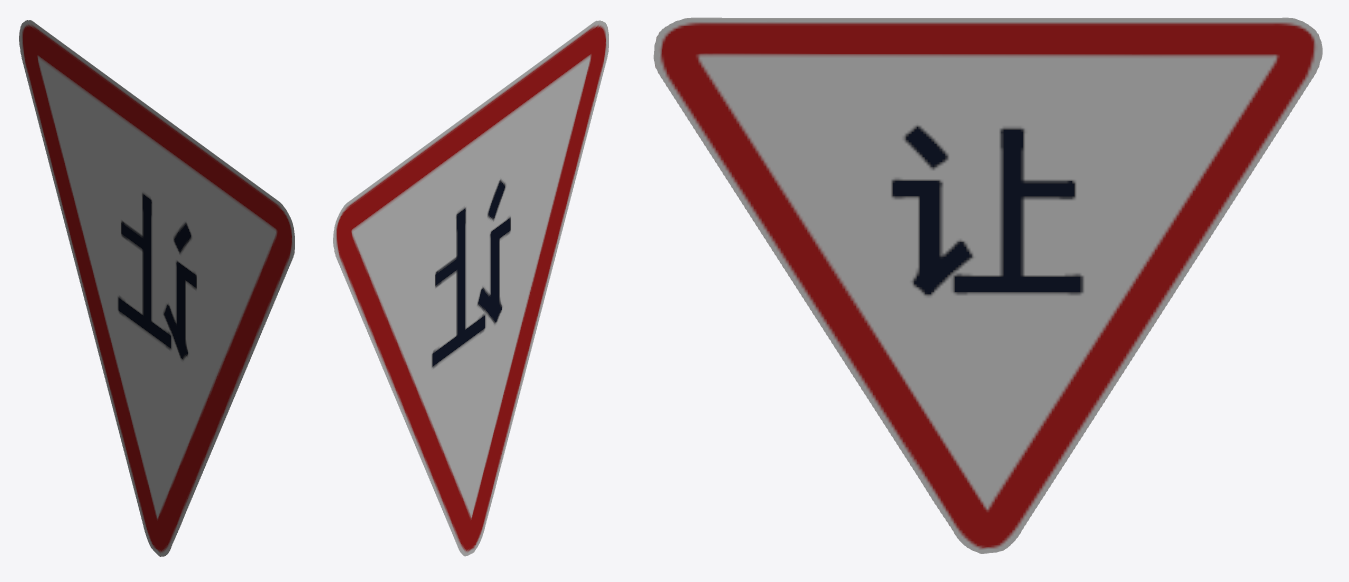
The model's file is SM_TPP_E.fbx.
3 renders of one model, left to right at view 1: azimuth 30°, elevation 25°; view 2: azimuth 150°, elevation 25°; view 3: azimuth 270°, elevation 25°, orthographic. The views are drawn at different scales.
Parts seen in each view (by area): view 1: SM_TPP_E; view 2: SM_TPP_E; view 3: SM_TPP_E.
Part boxes in pixels (left/top/right/bottom): SM_TPP_E: left=19, top=20, right=294, bottom=556; SM_TPP_E: left=333, top=20, right=608, bottom=556; SM_TPP_E: left=653, top=17, right=1322, bottom=553.
Bounding box in the file's own units: 7.05e-08 × 0.865 × 0.9798.
